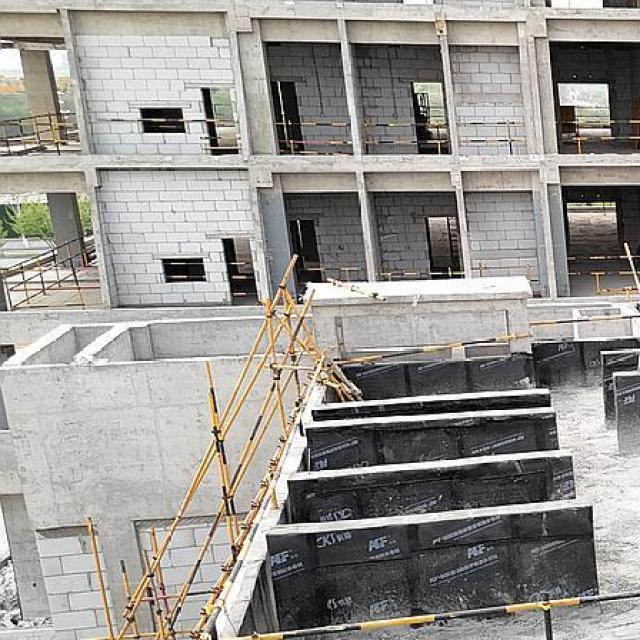Guardrail: (195, 353, 640, 640), (0, 235, 103, 311), (334, 332, 534, 367), (1, 112, 78, 157), (359, 122, 450, 157), (554, 119, 640, 155), (567, 255, 640, 295), (274, 121, 352, 156), (455, 121, 528, 155), (470, 262, 540, 284), (374, 266, 466, 281), (525, 314, 640, 326), (226, 261, 258, 296), (294, 267, 364, 282), (162, 261, 207, 280), (97, 116, 219, 123), (198, 136, 243, 150)
